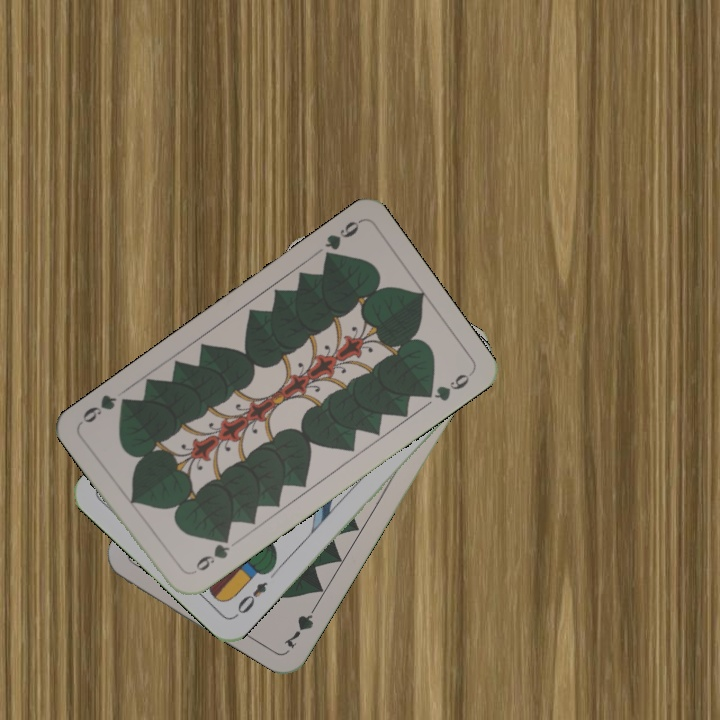EO: (231, 577, 270, 620)
G7: (279, 598, 322, 651)
G9: (319, 216, 364, 265), (186, 531, 233, 577)
